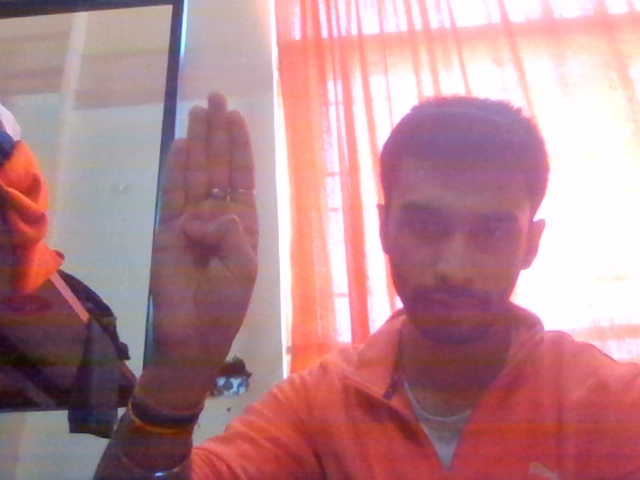B: (115, 78, 295, 419)
